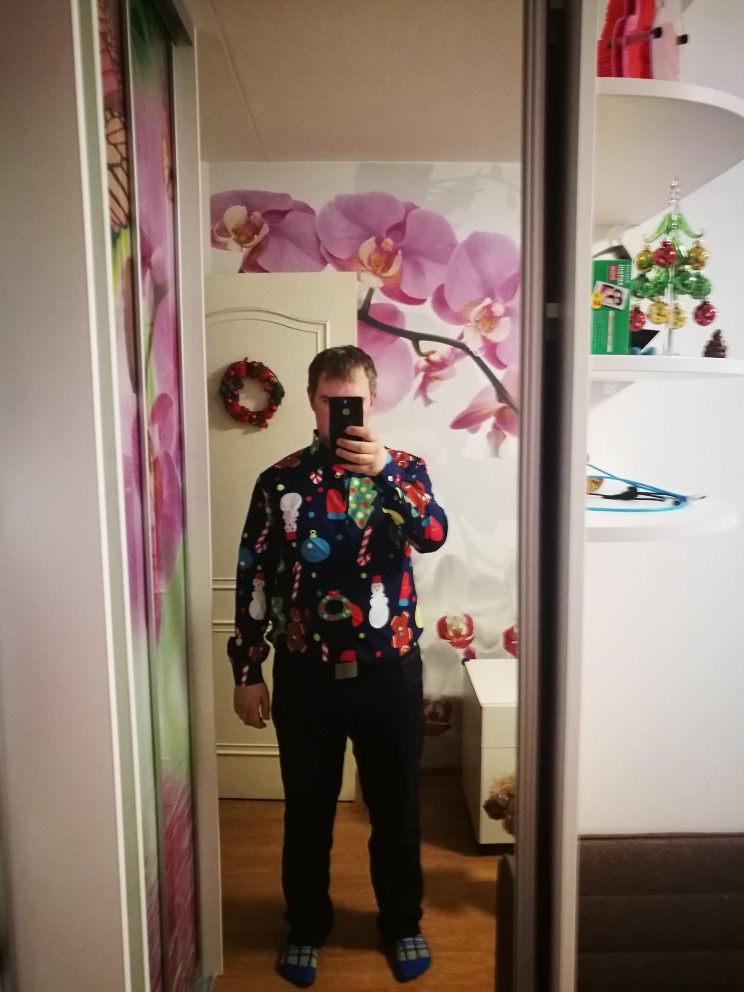shirts: (231, 434, 448, 685)
